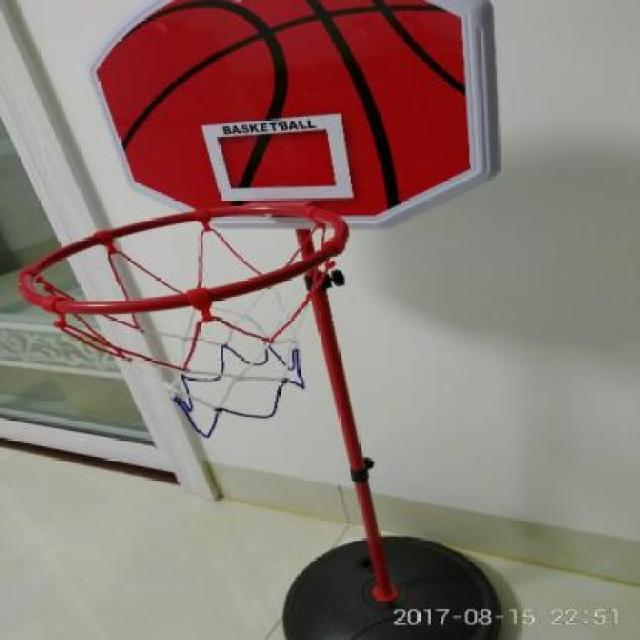rim: (18, 204, 350, 430)
